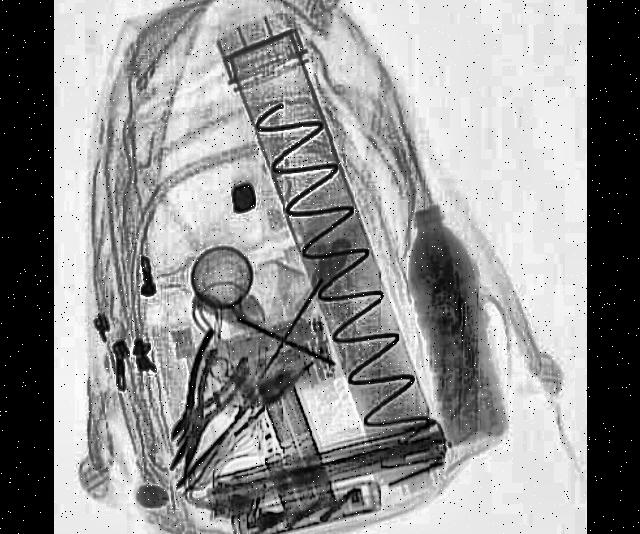Pliers: (162, 345, 248, 491), (160, 328, 248, 470)
